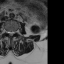CCS_stenosis: (9, 29, 11, 39)
LFS_normal: (14, 28, 17, 36)
LLS_normal: (11, 28, 14, 37)
RFS_normal: (5, 26, 7, 36)
RLS_normal: (7, 28, 9, 37)
